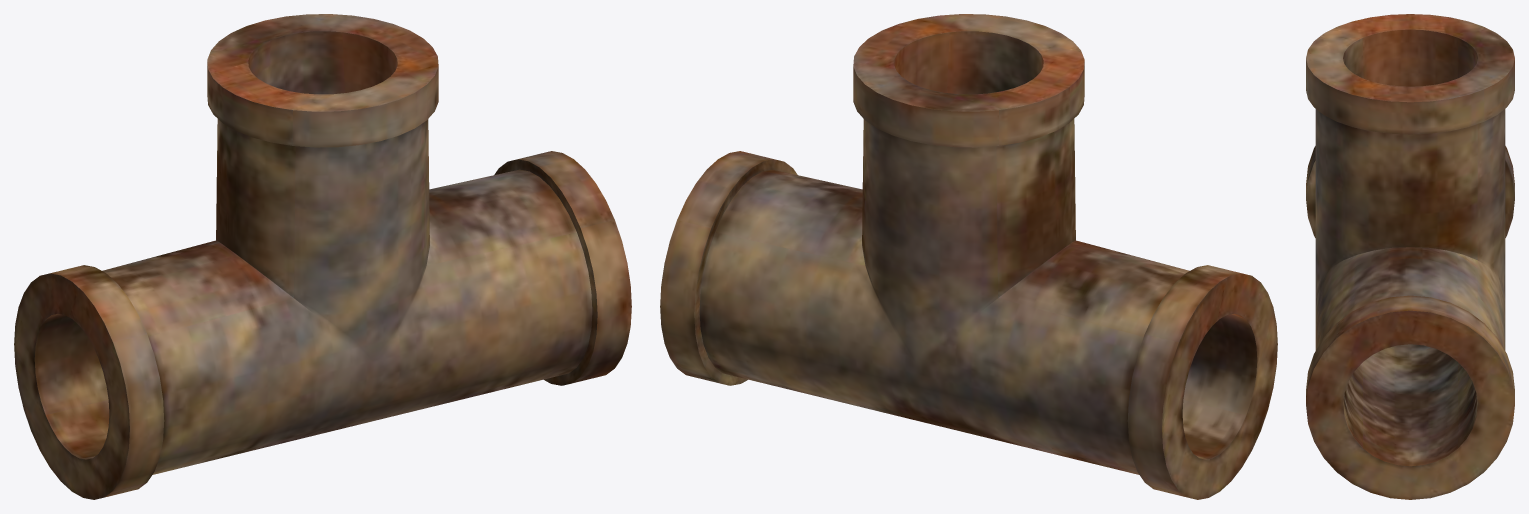
The model's file is old_pipe_03.glb.
3 renders of one model, left to right at view 1: azimuth 30°, elevation 25°; view 2: azimuth 150°, elevation 25°; view 3: azimuth 270°, elevation 25°, orthographic. The views are drawn at different scales.
Visible parts, largest first — view 1: old_pipe_03; view 2: old_pipe_03; view 3: old_pipe_03.
Boxes of the visible parts, left/top/right/bottom form: old_pipe_03: left=14, top=14, right=631, bottom=499; old_pipe_03: left=660, top=14, right=1277, bottom=499; old_pipe_03: left=1306, top=14, right=1514, bottom=499.
Size of what is drawn, in the model's own units: 0.2108 by 0.1476 by 0.0843.
Materials: 1 (1 with a texture image).
